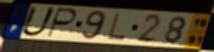2: (135, 13, 163, 45)
8: (163, 16, 187, 45)
9: (80, 10, 108, 41)
L: (106, 12, 128, 41)
P: (45, 6, 79, 39)
U: (19, 5, 59, 38)
